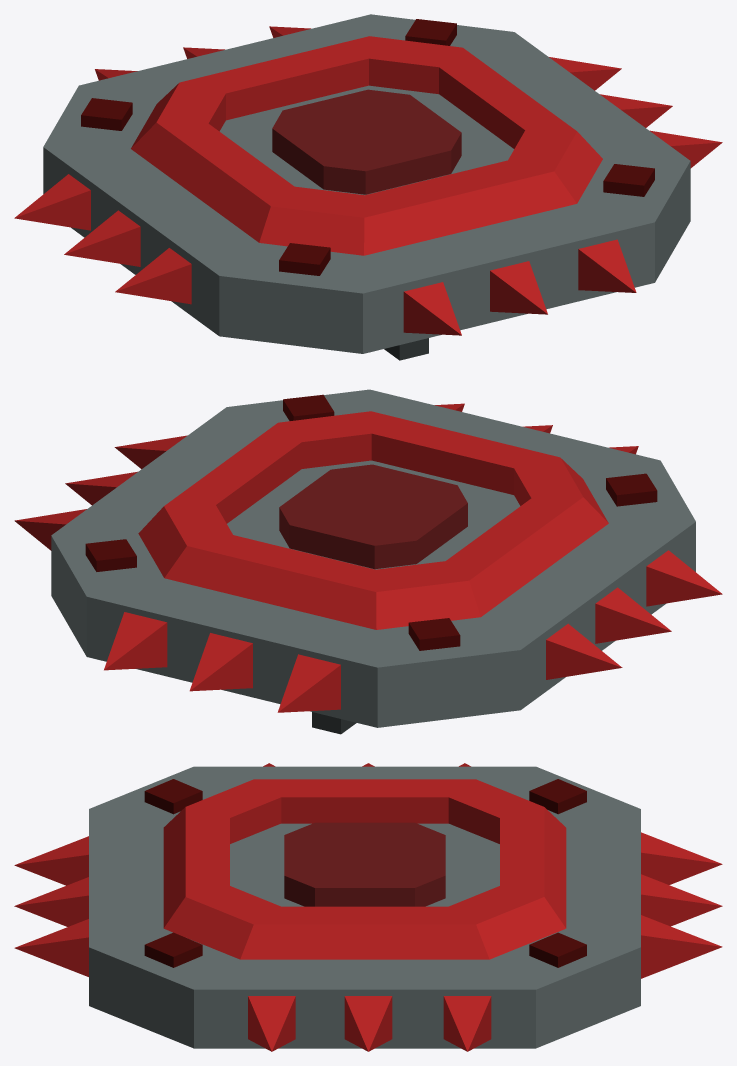
Rendered from Big Shield 03.FBX.
The picture shows the model from 3 angles, top to bottom: view 1: azimuth 30°, elevation 25°; view 2: azimuth 150°, elevation 25°; view 3: azimuth 270°, elevation 25°; orthographic projection. The views are drawn at different scales.
Visible parts, largest first — view 1: Big Shield 03; view 2: Big Shield 03; view 3: Big Shield 03.
Part boxes in pixels (x1,y1,x2,y2): Big Shield 03: [14, 14, 722, 360]; Big Shield 03: [14, 389, 722, 734]; Big Shield 03: [14, 763, 722, 1051].
Size of the model in its own units: 92.89 by 28.44 by 96.36.
